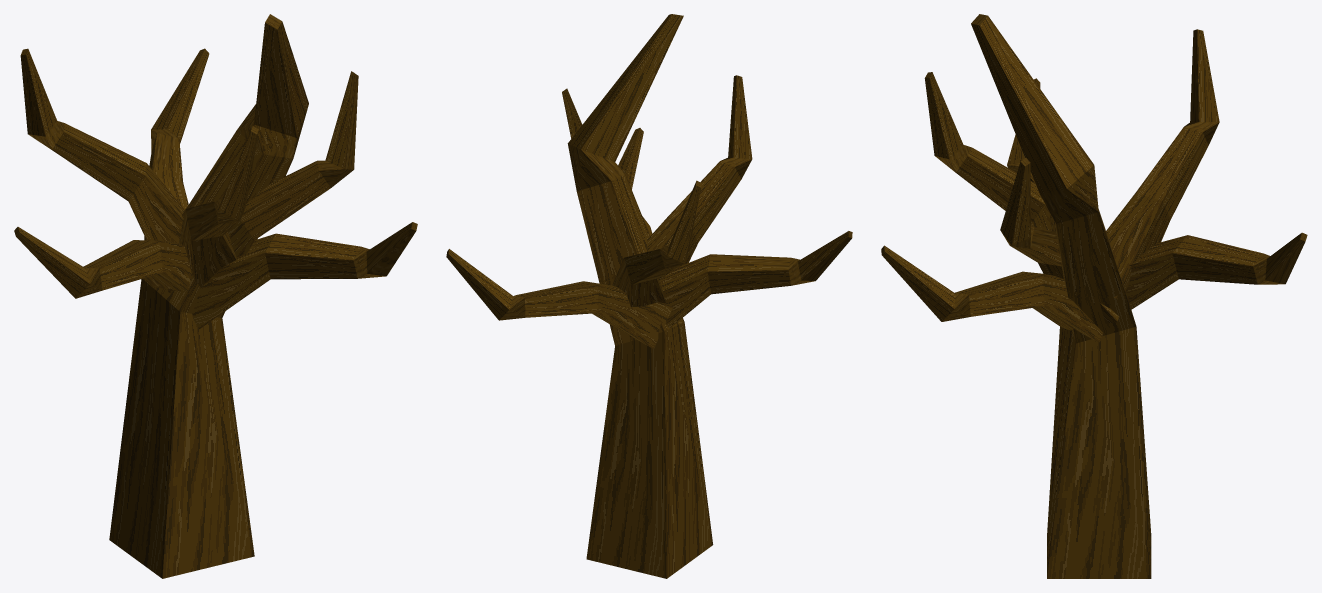
File: deadtree.fbx
The picture shows the model from 3 angles, left to right: view 1: azimuth 30°, elevation 25°; view 2: azimuth 150°, elevation 25°; view 3: azimuth 270°, elevation 25°; orthographic projection. The views are drawn at different scales.
Visible parts, largest first — view 1: dedtree; view 2: dedtree; view 3: dedtree.
Boxes of the visible parts, x1,y1,x2,y2 form: dedtree: [14, 14, 417, 578]; dedtree: [446, 14, 852, 578]; dedtree: [881, 14, 1307, 578].
Bounding box in the file's own units: 733 × 1178 × 818.
Materials: 1 (1 with a texture image).
